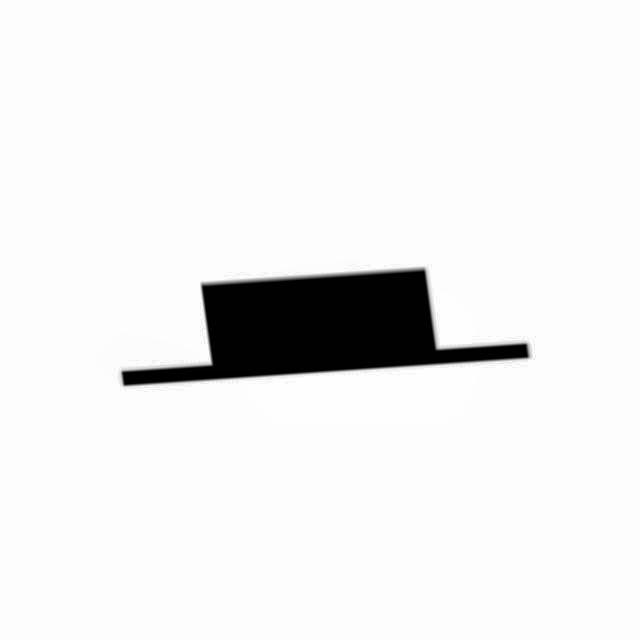Half-rest: (104, 262, 556, 401)
